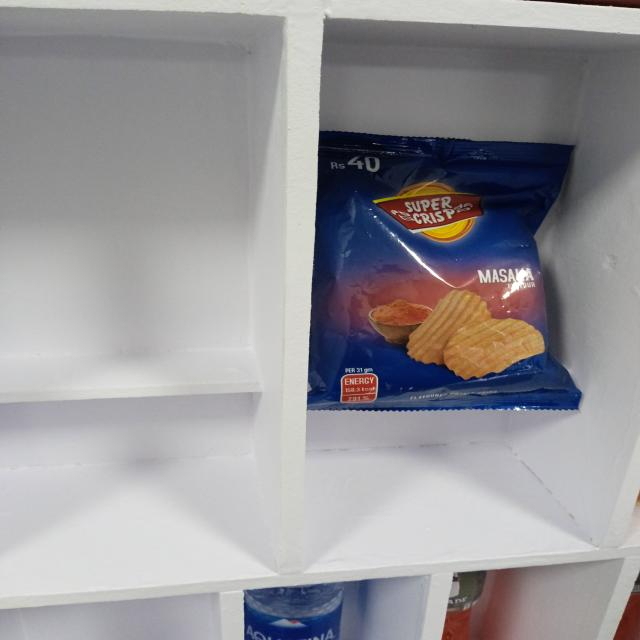Plastic: (325, 143, 537, 404), (248, 591, 345, 640), (452, 571, 483, 640)
